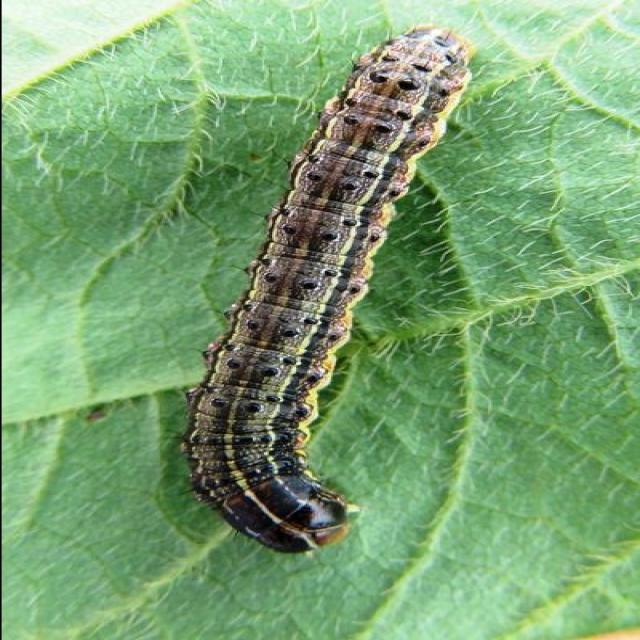army worm: (174, 24, 484, 563)
